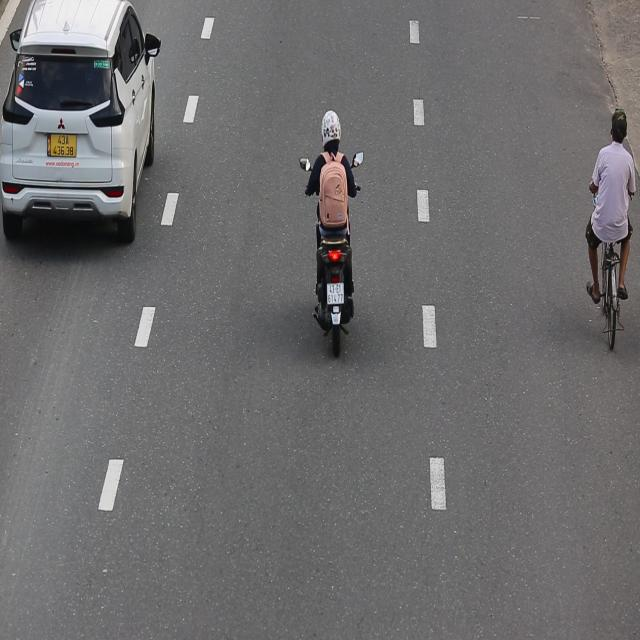motorbike: (291, 94, 371, 358)
